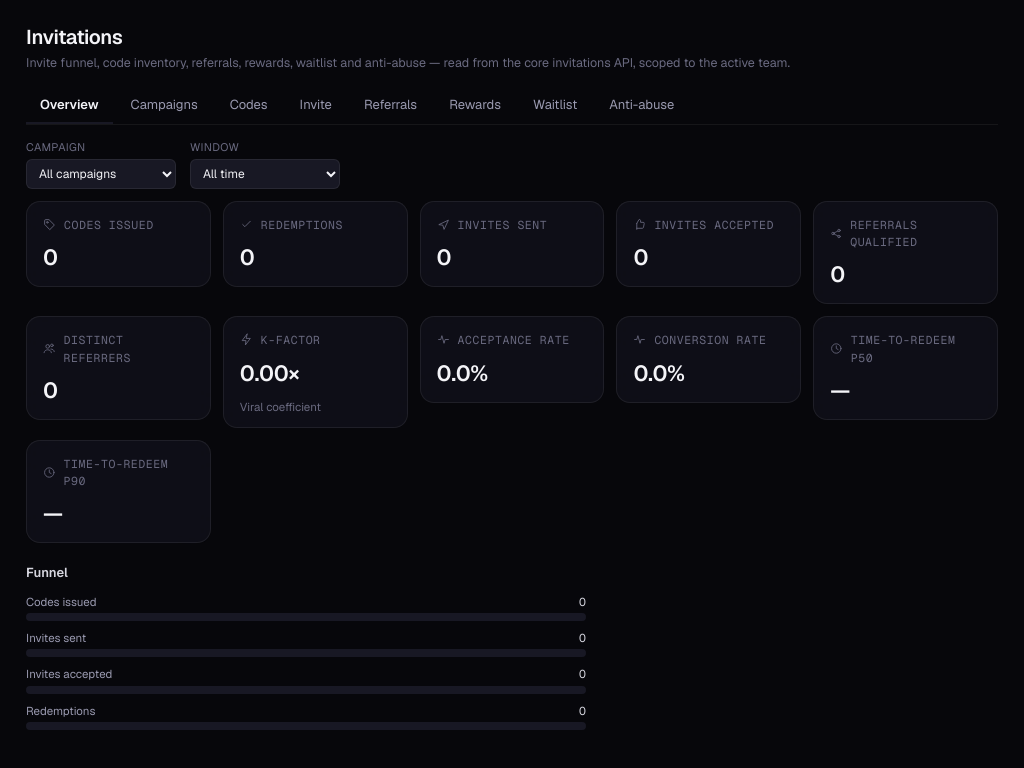
Scenario: InvitationsView › Campaigns tab exposes the New campaign button
Step 1. Click the tab with test id "admin-invitations-tab-campaigns" → point(164, 106), box [116, 87, 212, 124]
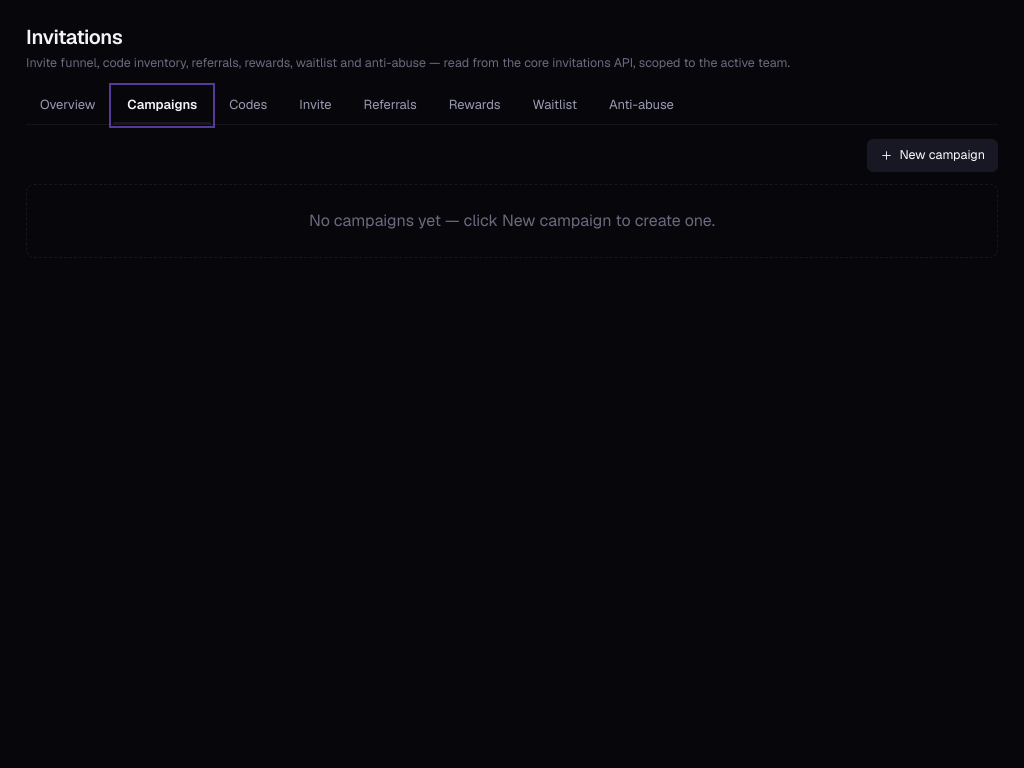
Now the button with test id "admin-invitations-campaigns-new" is shown, box [868, 139, 998, 172]
